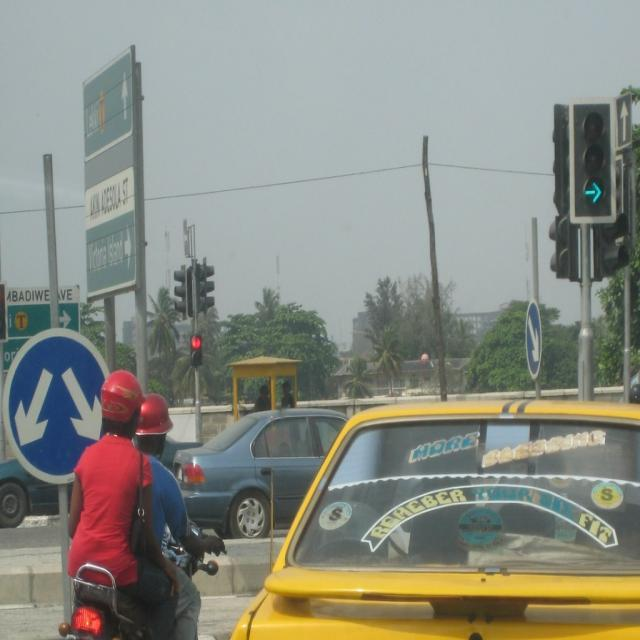obstructed_road_sign: (1, 325, 111, 488)
off traffic light: (591, 212, 631, 278), (197, 255, 217, 312), (173, 264, 188, 319)
road_sign: (525, 299, 541, 379), (617, 92, 633, 150)
traffic light: (573, 103, 613, 216), (189, 336, 203, 365)
